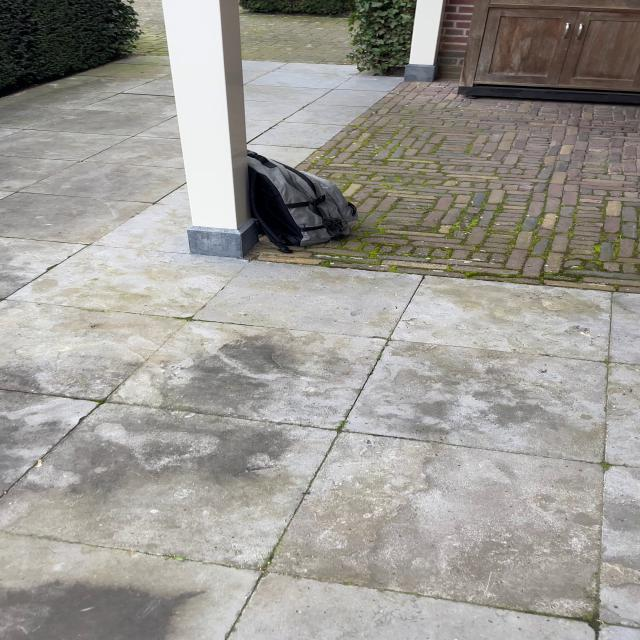backpack: (235, 148, 362, 256)
